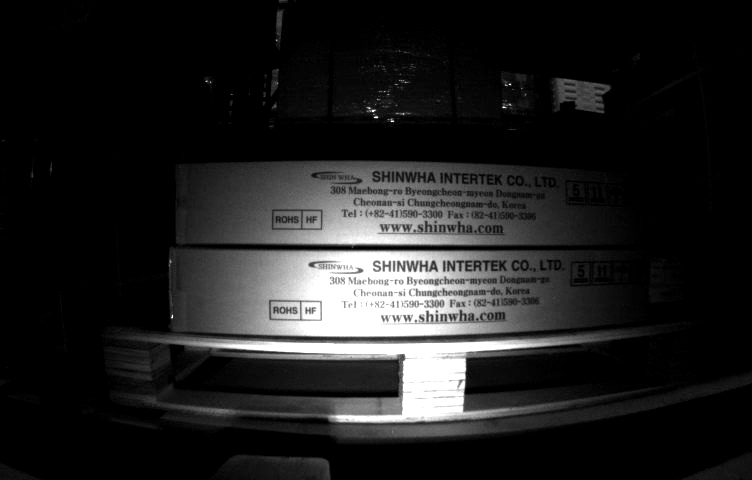True Barcode: (649, 260, 682, 300)
